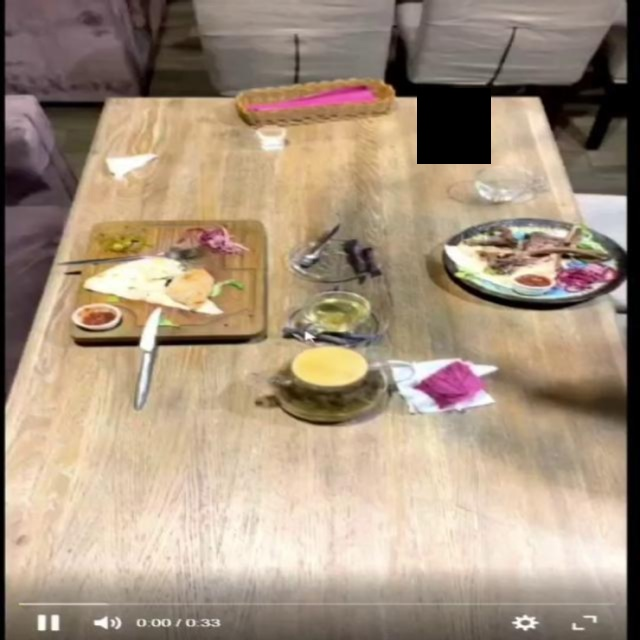meat: (418, 200, 640, 317), (71, 219, 270, 341)
tea: (270, 345, 384, 420)
